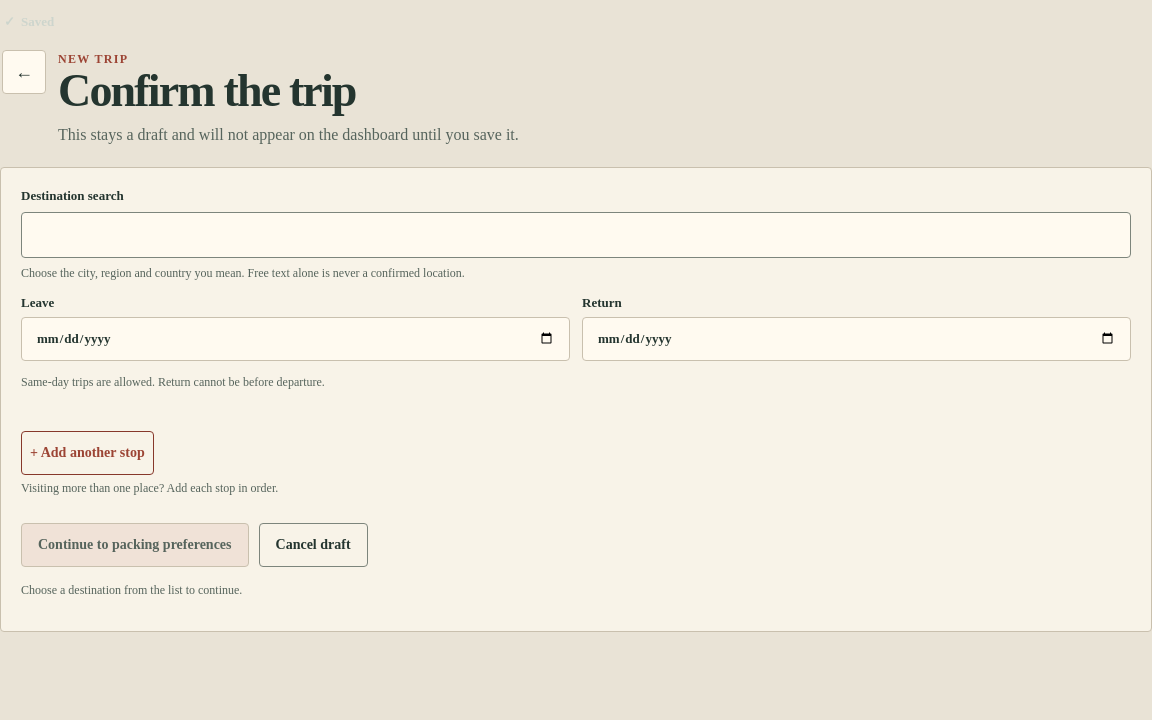
Test: trip theme › goes away again when the destination is cleared
The image size is (1152, 720).
Type "lisbon" into the dropdown labelled "Destination search" at (576, 235), box [21,212,1131,258]
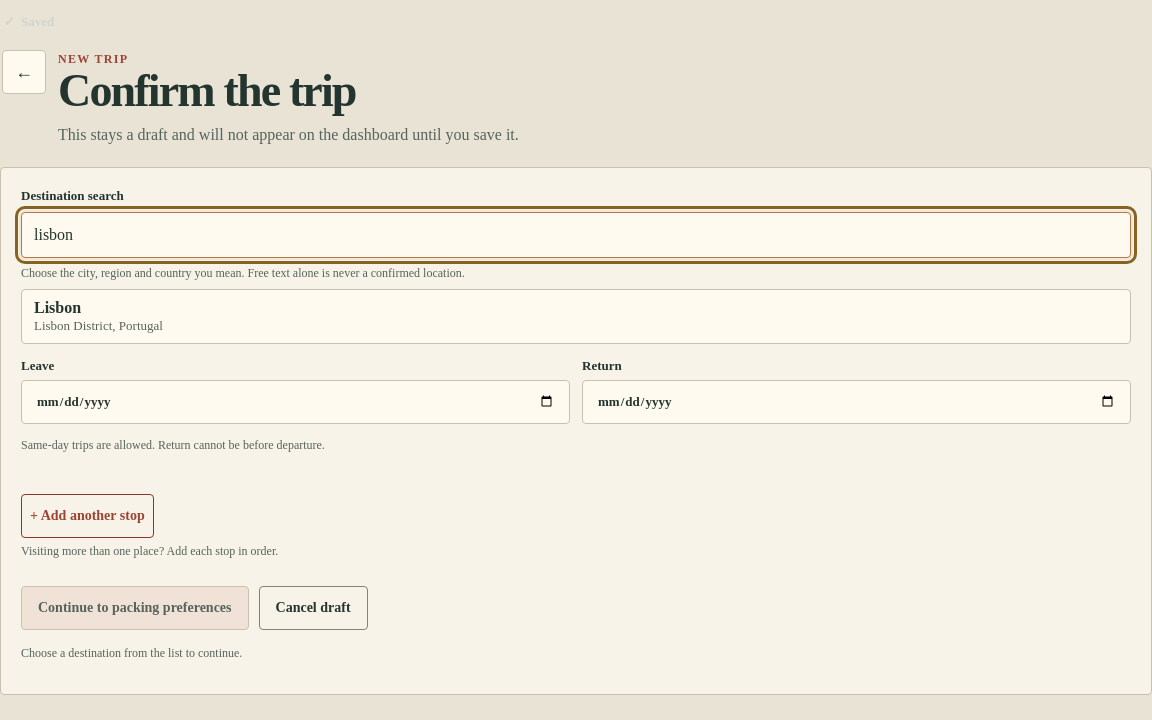
Click the option "Lisbon Lisbon District, Portugal" at (58, 307), box [21,289,1131,344]
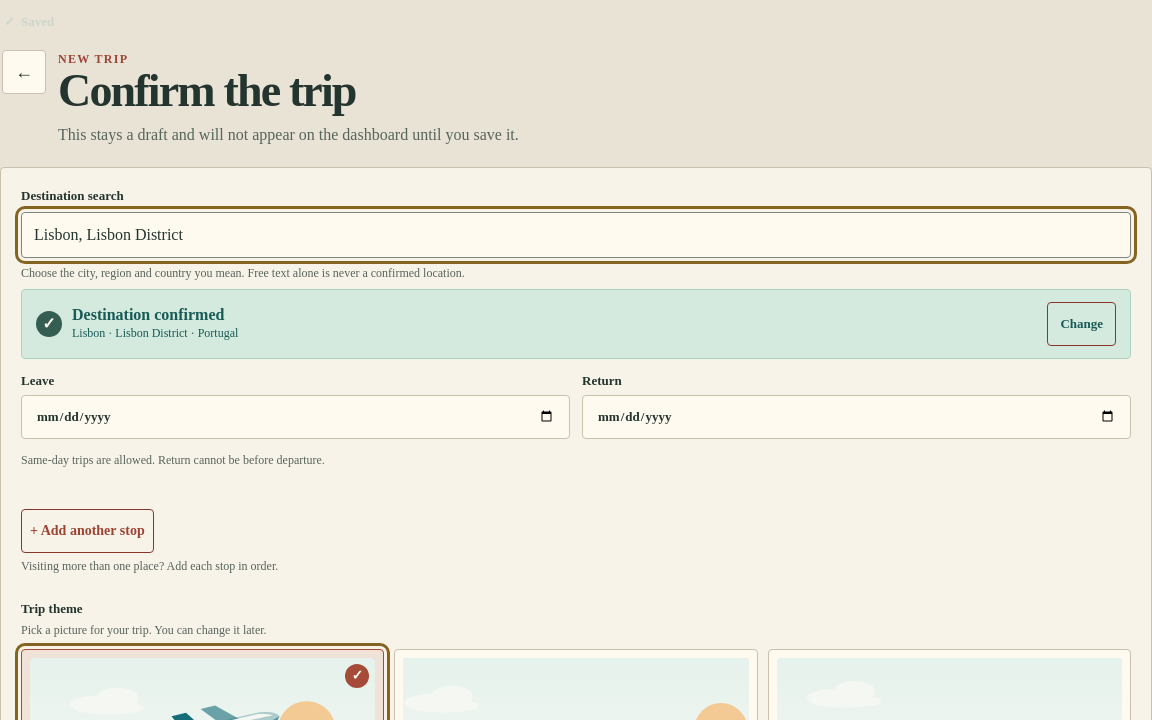
Click the button "Change" at (1082, 324), box [1047,302,1116,346]
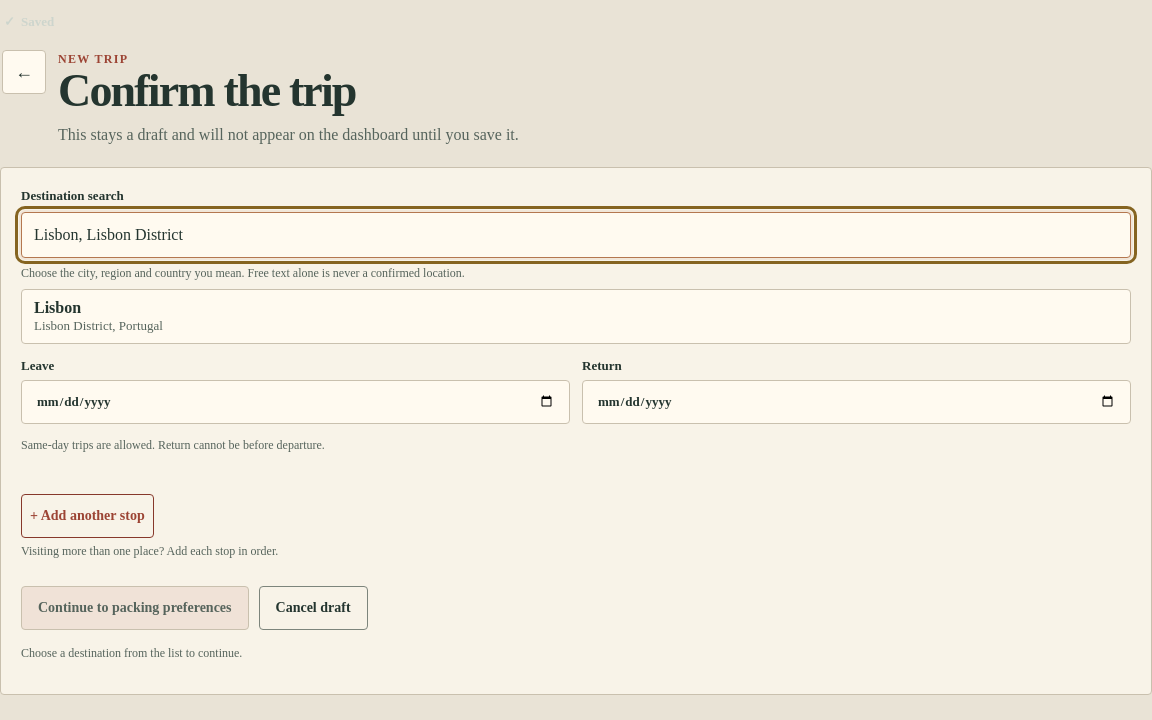
Check: the text "Trip theme" is gone
